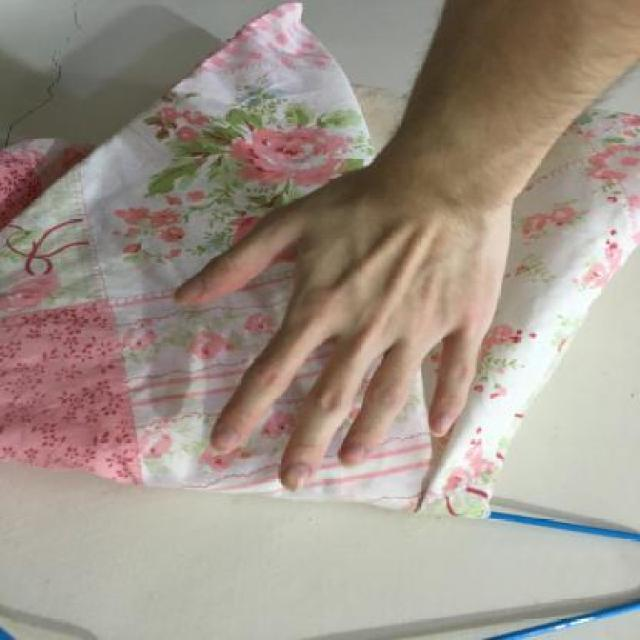bare_hand: (152, 157, 526, 506)
